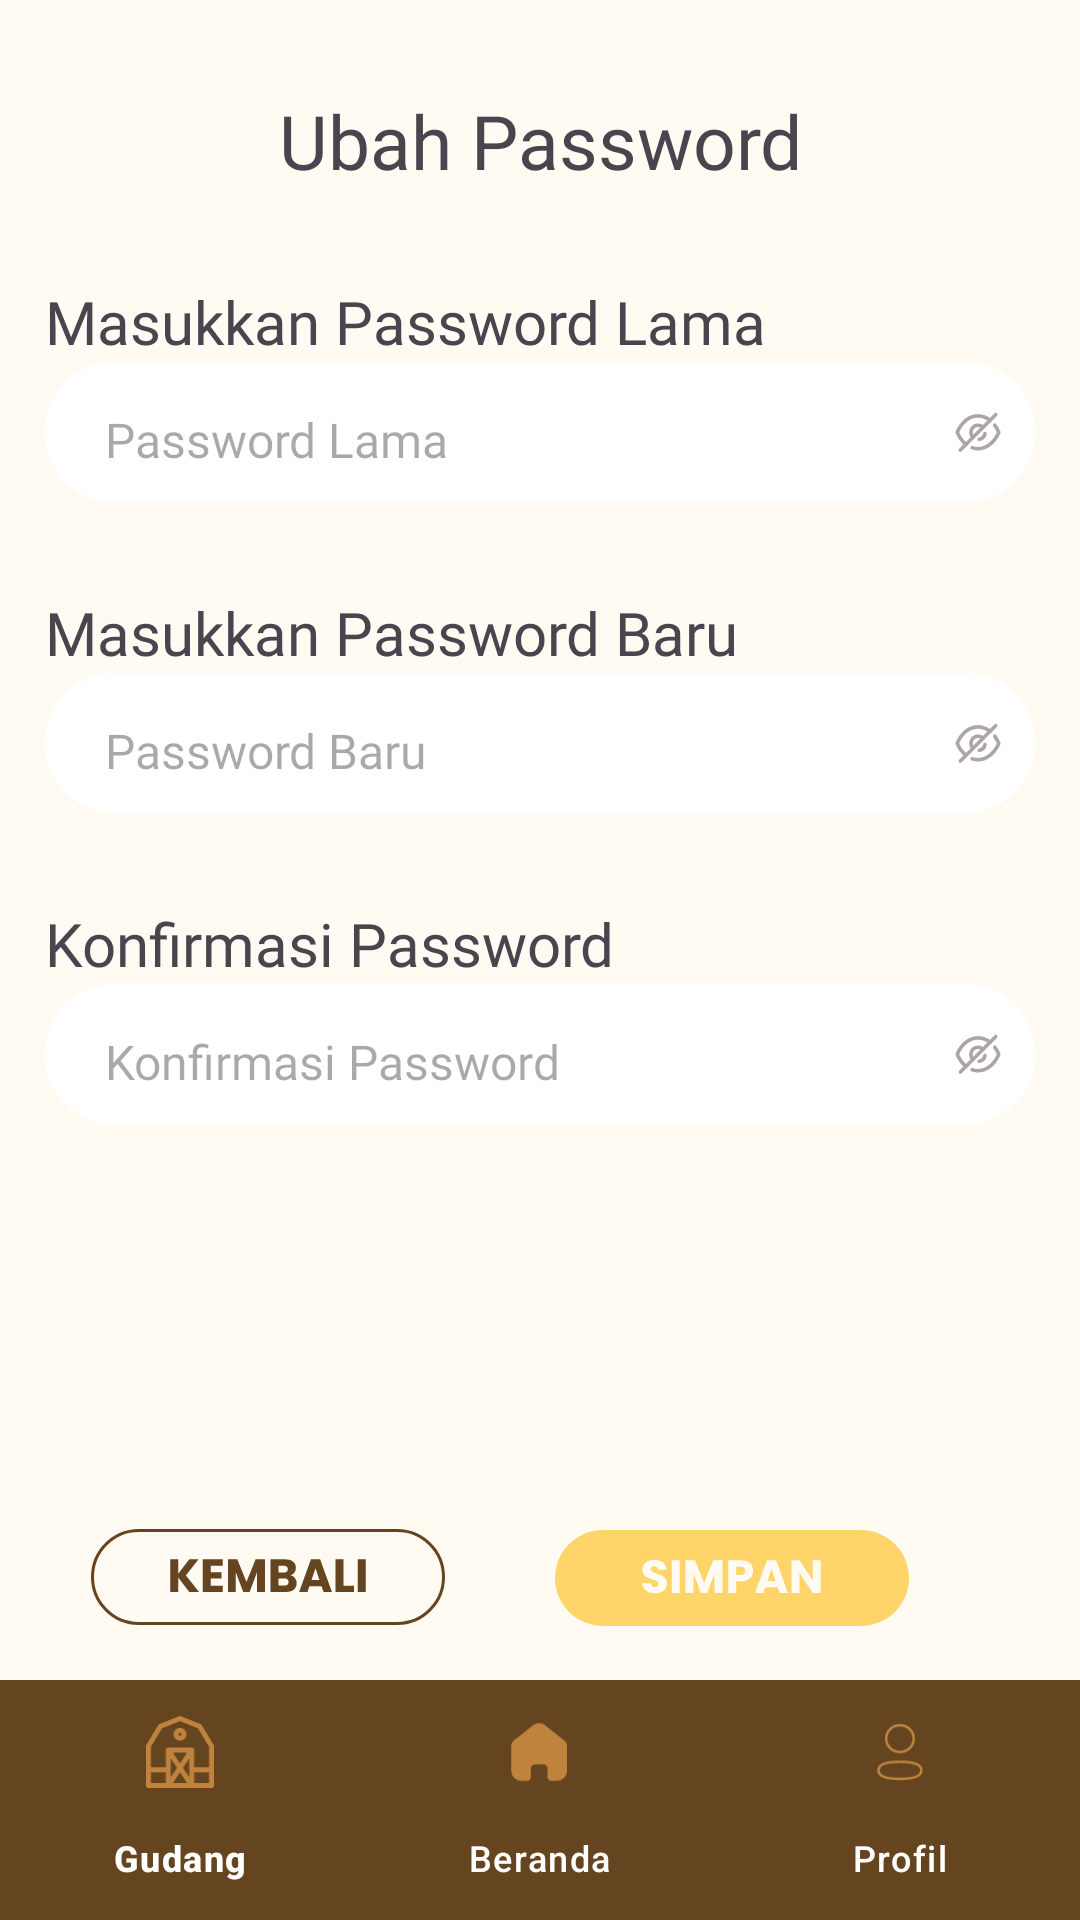

Icon click points for this 1080×1920 phone screenshot, format point (x, y):
hide password: point (978, 432), point (978, 743), point (978, 1054)
